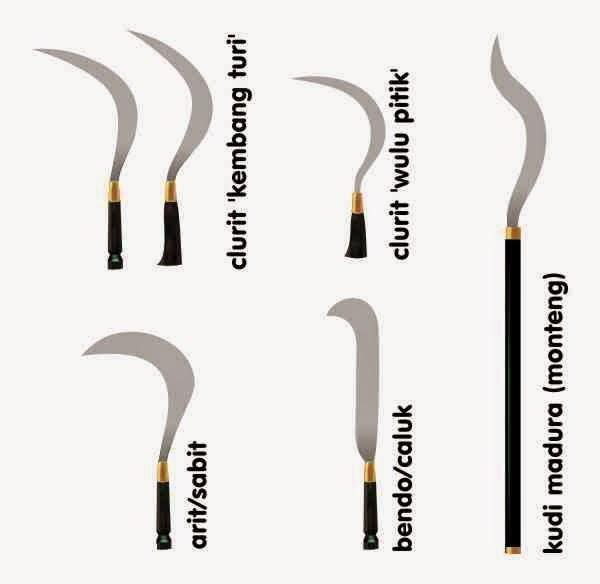foice: (83, 331, 194, 549), (37, 49, 137, 269), (130, 29, 212, 266), (292, 75, 384, 258), (490, 36, 546, 236)
